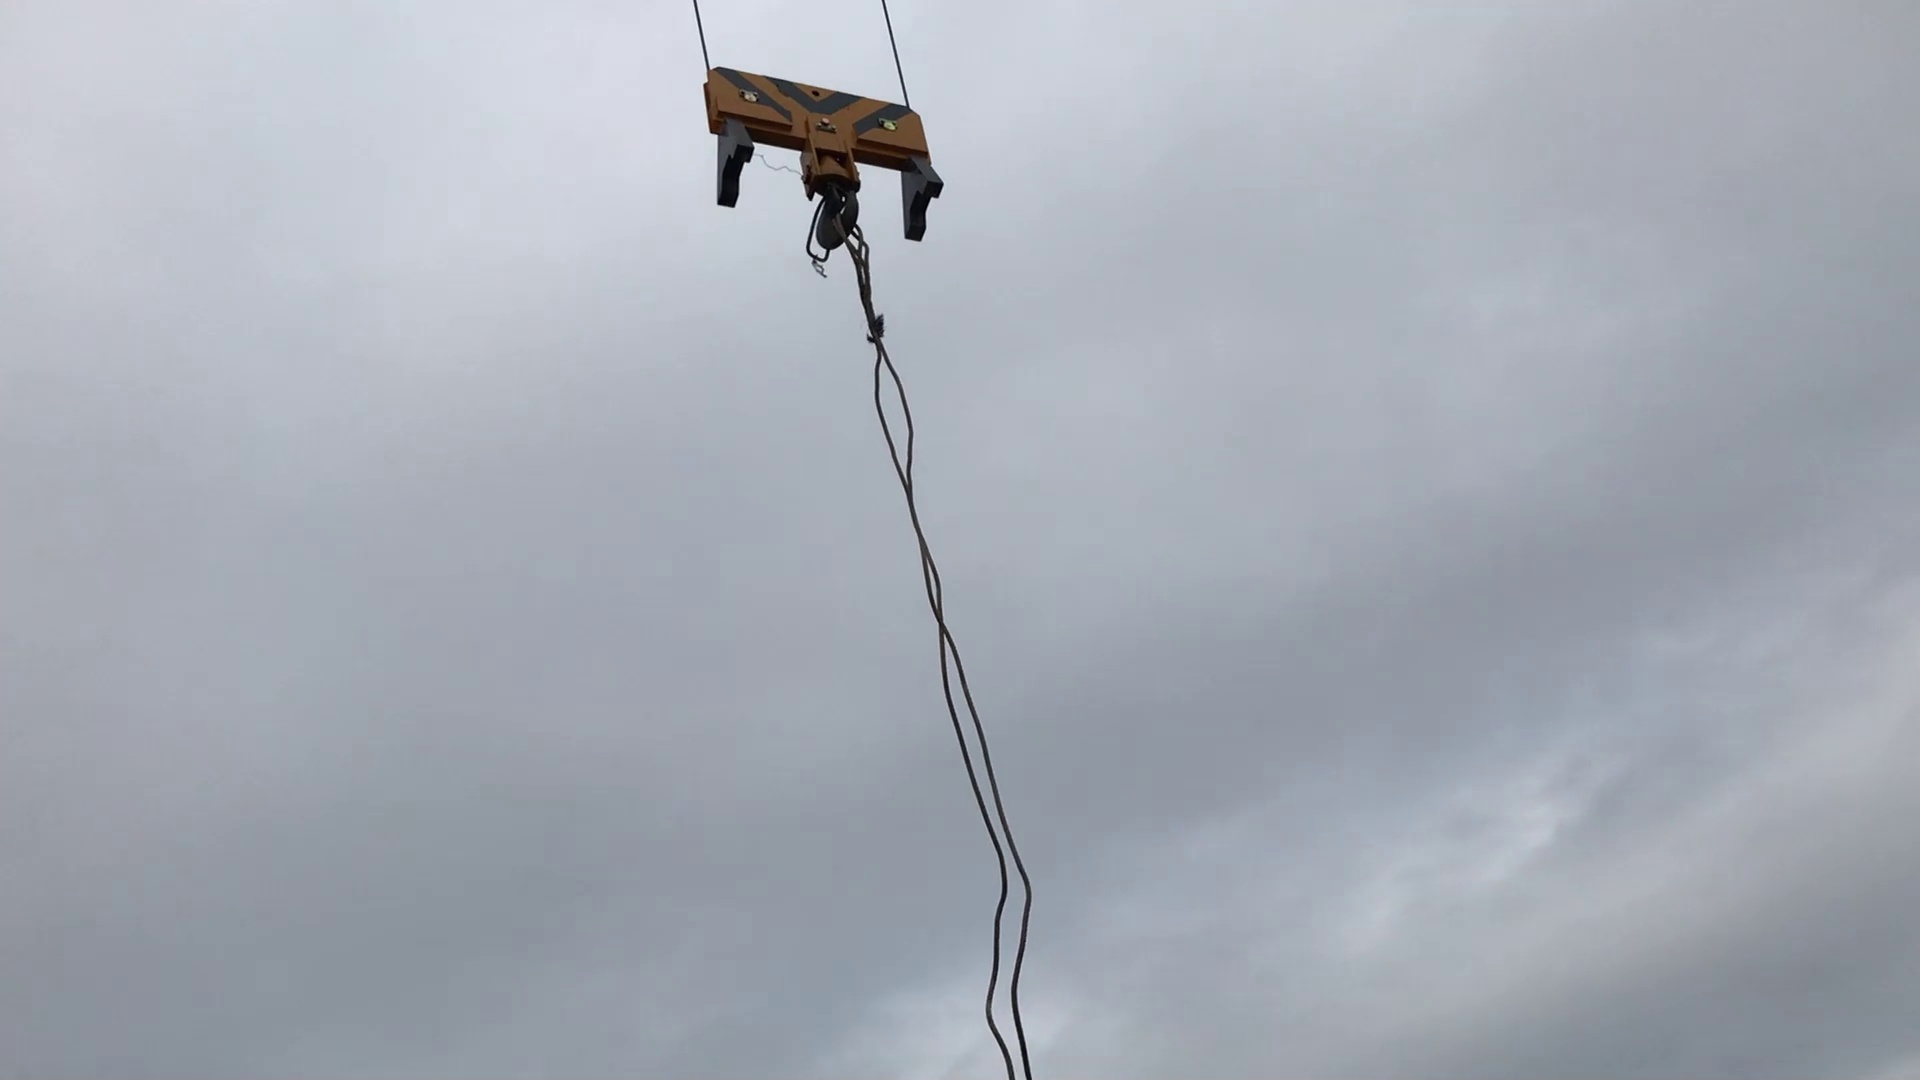hook: (688, 49, 967, 247)
